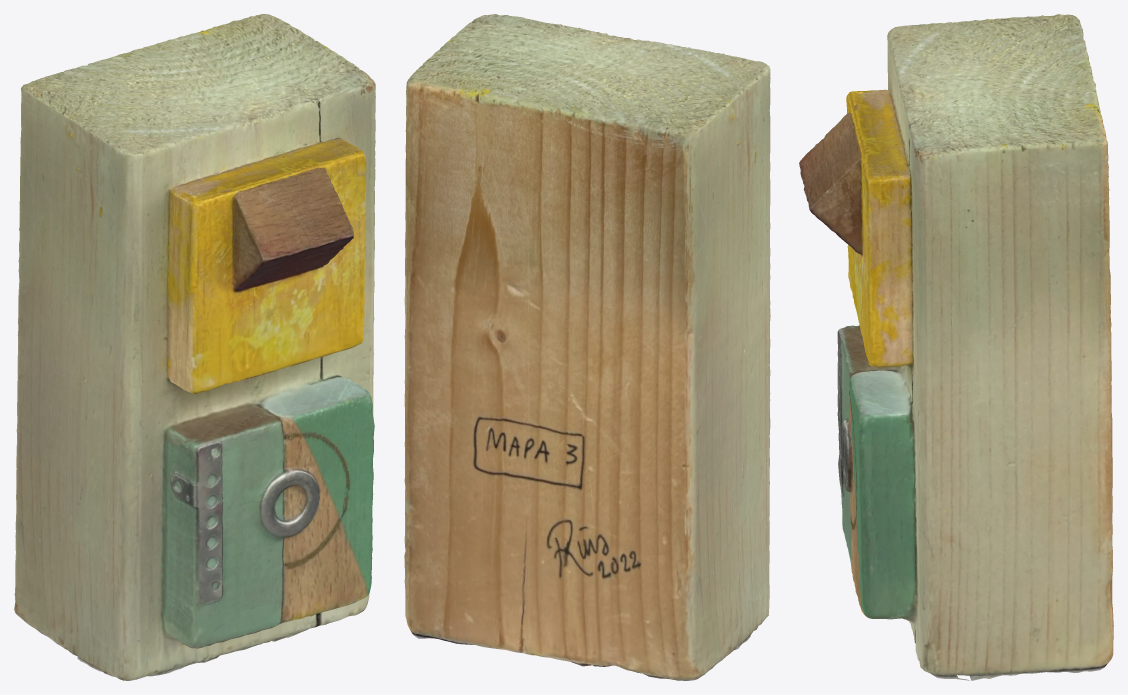
Rendered from Mapa_03.glb.
3 renders of one model, left to right at view 1: azimuth 30°, elevation 25°; view 2: azimuth 150°, elevation 25°; view 3: azimuth 270°, elevation 25°, orthographic. The views are drawn at different scales.
Parts seen in each view (by area): view 1: Geom; view 2: Geom; view 3: Geom.
Part boxes in pixels (box(x1,y1,x2,y2)): Geom: box(14, 14, 375, 680); Geom: box(404, 14, 770, 680); Geom: box(799, 14, 1113, 680).
Size of the model in its own units: 0.0779 by 0.142 by 0.0751.
Materials: 1 (1 with a texture image).
